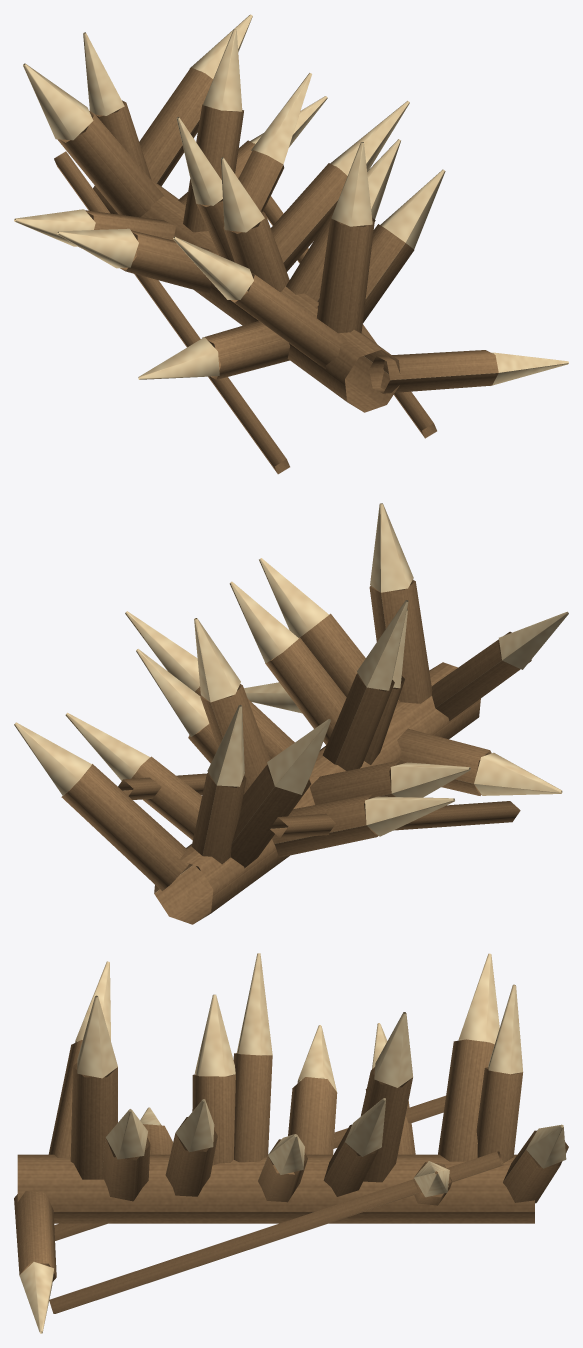
Rendered from fence_spike.glb.
The picture shows the model from 3 angles, top to bottom: view 1: azimuth 30°, elevation 25°; view 2: azimuth 150°, elevation 25°; view 3: azimuth 270°, elevation 25°; orthographic projection. The views are drawn at different scales.
Visible parts, largest first — view 1: fence_spike; view 2: fence_spike; view 3: fence_spike.
Boxes of the visible parts, bbox=[...] form: fence_spike: bbox=[14, 14, 568, 474]; fence_spike: bbox=[14, 503, 568, 924]; fence_spike: bbox=[14, 953, 568, 1333].
Bounding box in the file's own units: 2.63 × 1.9 × 3.22.
1 material, 1 textured.
